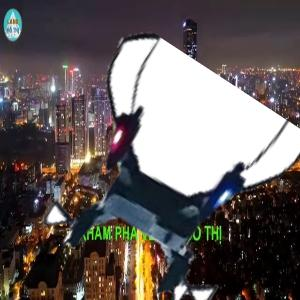drone: (50, 65, 285, 300)
